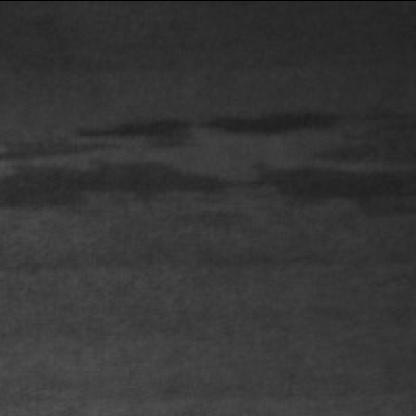inclusion: (0, 106, 410, 216), (193, 241, 348, 287)
